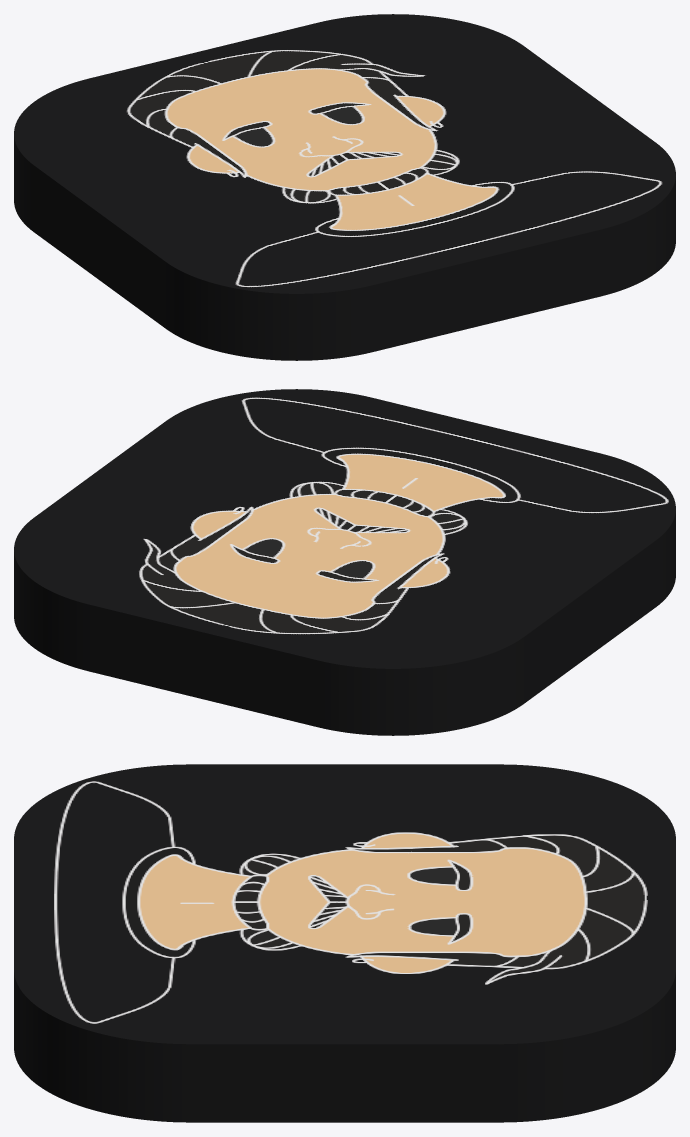
File: picto-shams.glb
The picture shows the model from 3 angles, top to bottom: view 1: azimuth 30°, elevation 25°; view 2: azimuth 150°, elevation 25°; view 3: azimuth 270°, elevation 25°; orthographic projection. The views are drawn at different scales.
Visible parts, largest first — view 1: Plane; view 2: Plane; view 3: Plane.
Part boxes in pixels (bbox=[...]): Plane: bbox=[14, 14, 675, 360]; Plane: bbox=[14, 389, 675, 735]; Plane: bbox=[14, 764, 675, 1122].
Size of the model in its own units: 2 by 0.2611 by 2.
Materials: 1 (1 with a texture image).
